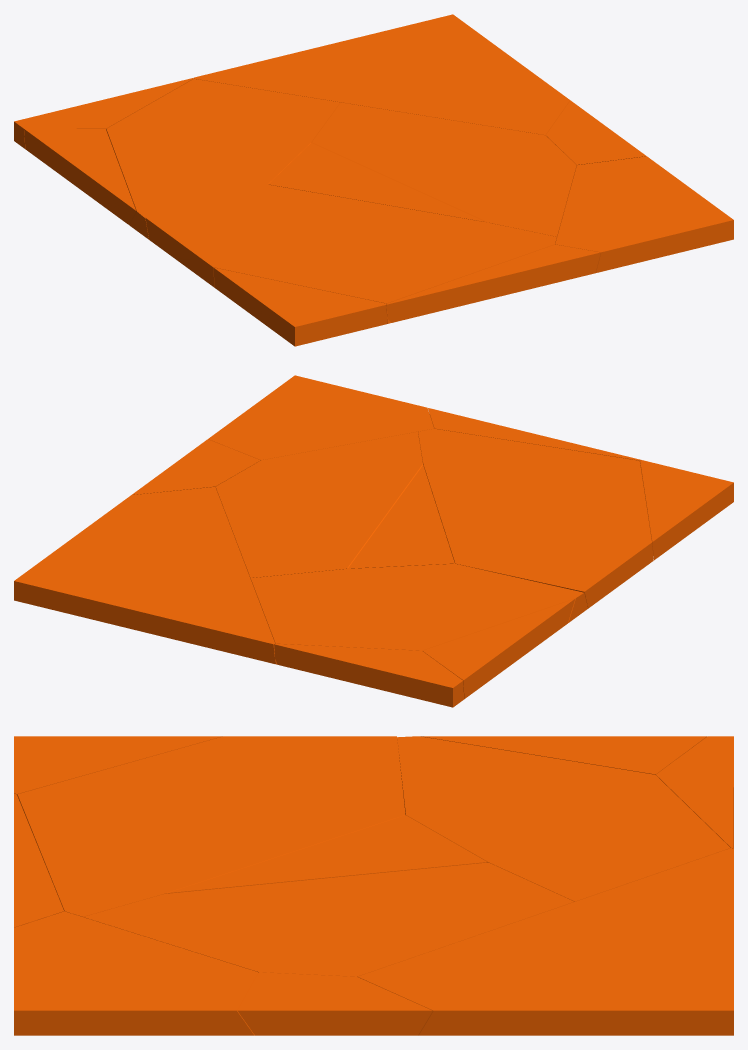
Rendered from Shatter.fbx.
3 views of the same model, one above another, from view 1: azimuth 30°, elevation 25°; view 2: azimuth 150°, elevation 25°; view 3: azimuth 270°, elevation 25° (orthographic). The views are drawn at different scales.
Visible parts, largest first — view 1: Glass_01_001_cell_009_cell_003, Glass_01_001_cell_006, Glass_01_001_cell_009_cell_001, Glass_01_001_cell_009_cell_004, Glass_01_001_cell_008, Glass_01_001_cell_004, Glass_01_001_cell_003, Glass_01_001_cell_009_cell_006, Glass_01_001_cell_005, Glass_01_001_cell, Glass_01_001_cell_001; view 2: Glass_01_001_cell_009_cell_003, Glass_01_001_cell_006, Glass_01_001_cell_009_cell_001, Glass_01_001_cell_009_cell_004, Glass_01_001_cell_008, Glass_01_001_cell, Glass_01_001_cell_005, Glass_01_001_cell_009_cell_006, Glass_01_001_cell_004, Glass_01_001_cell_001, Glass_01_001_cell_003; view 3: Glass_01_001_cell_009_cell_003, Glass_01_001_cell_006, Glass_01_001_cell_009_cell_001, Glass_01_001_cell_009_cell_004, Glass_01_001_cell_008, Glass_01_001_cell_001, Glass_01_001_cell_009_cell_006, Glass_01_001_cell_004, Glass_01_001_cell_005, Glass_01_001_cell, Glass_01_001_cell_003.
Part boxes in pixels (<box>): Glass_01_001_cell_009_cell_003: <box>145,184,556,323</box>; Glass_01_001_cell_006: <box>193,14,570,135</box>; Glass_01_001_cell_009_cell_001: <box>106,79,340,239</box>; Glass_01_001_cell_009_cell_004: <box>311,102,576,236</box>; Glass_01_001_cell_008: <box>555,156,733,272</box>; Glass_01_001_cell_004: <box>213,267,387,346</box>; Glass_01_001_cell_003: <box>386,244,600,322</box>; Glass_01_001_cell_009_cell_006: <box>268,143,485,221</box>; Glass_01_001_cell_005: <box>24,129,136,224</box>; Glass_01_001_cell: <box>14,78,193,148</box>; Glass_01_001_cell_001: <box>546,100,646,165</box>; Glass_01_001_cell_009_cell_003: <box>418,428,653,608</box>; Glass_01_001_cell_006: <box>14,487,275,663</box>; Glass_01_001_cell_009_cell_001: <box>250,563,587,664</box>; Glass_01_001_cell_009_cell_004: <box>215,431,422,578</box>; Glass_01_001_cell_008: <box>208,375,433,460</box>; Glass_01_001_cell: <box>274,643,464,707</box>; Glass_01_001_cell_005: <box>422,599,574,698</box>; Glass_01_001_cell_009_cell_006: <box>348,465,454,568</box>; Glass_01_001_cell_004: <box>640,460,733,560</box>; Glass_01_001_cell_001: <box>132,439,260,494</box>; Glass_01_001_cell_003: <box>428,408,641,465</box>; Glass_01_001_cell_009_cell_003: <box>17,736,405,916</box>; Glass_01_001_cell_006: <box>358,848,733,1035</box>; Glass_01_001_cell_009_cell_001: <box>397,736,730,901</box>; Glass_01_001_cell_009_cell_004: <box>83,862,574,976</box>; Glass_01_001_cell_008: <box>14,911,258,1035</box>; Glass_01_001_cell_001: <box>237,972,432,1035</box>; Glass_01_001_cell_009_cell_006: <box>168,815,486,892</box>; Glass_01_001_cell_004: <box>14,736,222,794</box>; Glass_01_001_cell_005: <box>421,736,706,774</box>; Glass_01_001_cell: <box>656,736,733,848</box>; Glass_01_001_cell_003: <box>14,793,63,927</box>.
Size of the model in its own units: 254 by 10.79 by 281.
